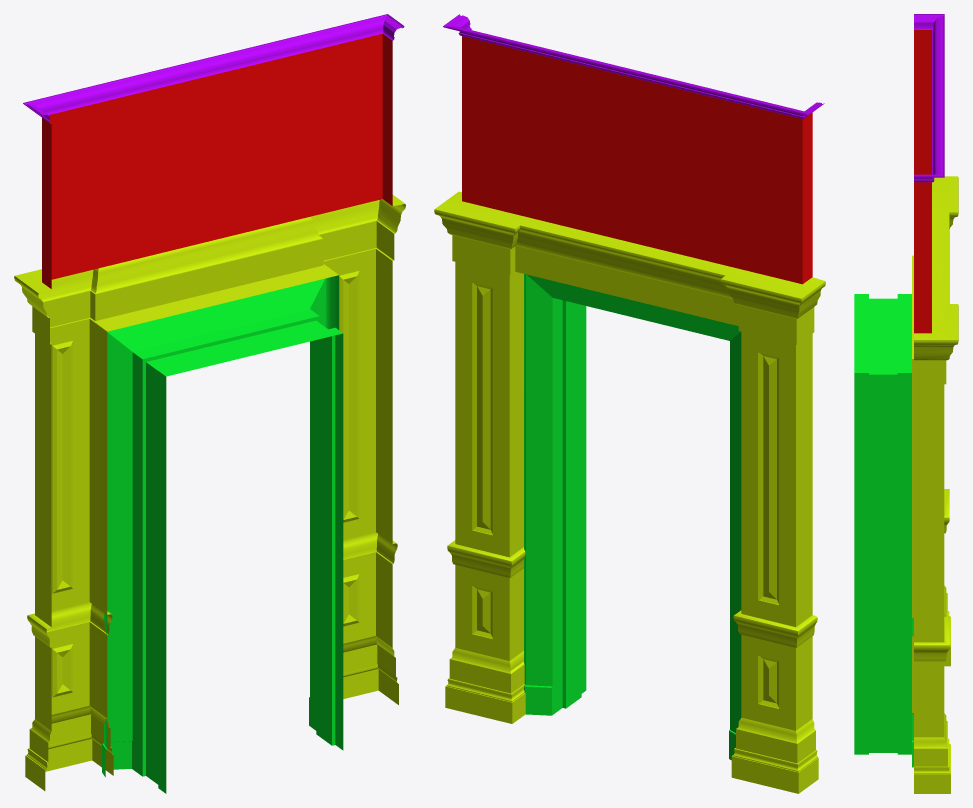
File: AR-DoorFrame_2M_02.FBX
3 renders of one model, left to right at view 1: azimuth 30°, elevation 25°; view 2: azimuth 150°, elevation 25°; view 3: azimuth 270°, elevation 25°, orthographic. The views are drawn at different scales.
Parts seen in each view (by area): view 1: AR-DoorFrame_2M_02; view 2: AR-DoorFrame_2M_02; view 3: AR-DoorFrame_2M_02.
Part boxes in pixels (box(x1,y1,x2,y2)): AR-DoorFrame_2M_02: box(14, 14, 405, 793); AR-DoorFrame_2M_02: box(434, 14, 825, 793); AR-DoorFrame_2M_02: box(854, 14, 958, 793).
Size of the model in its own units: 216 by 380 by 57.84.
